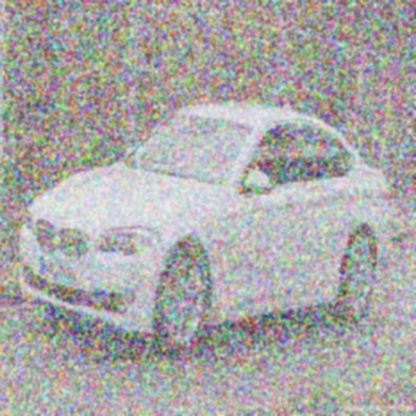Vehicle: (18, 104, 396, 361)
